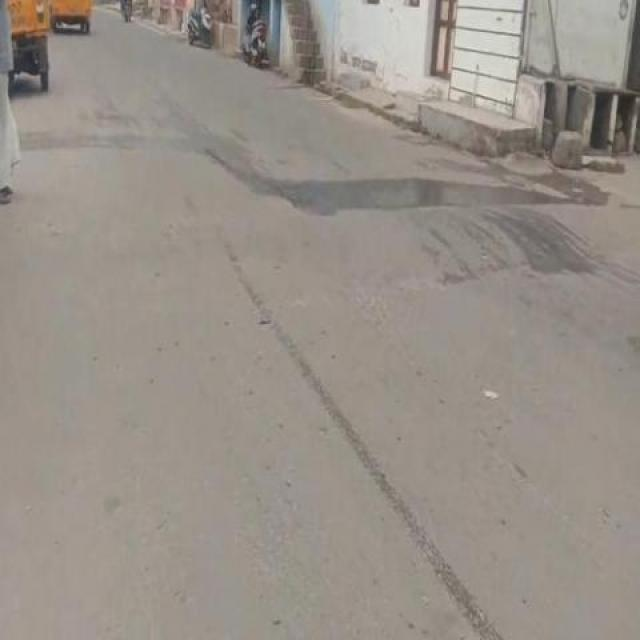Unmarked Bump: (111, 192, 626, 292)
